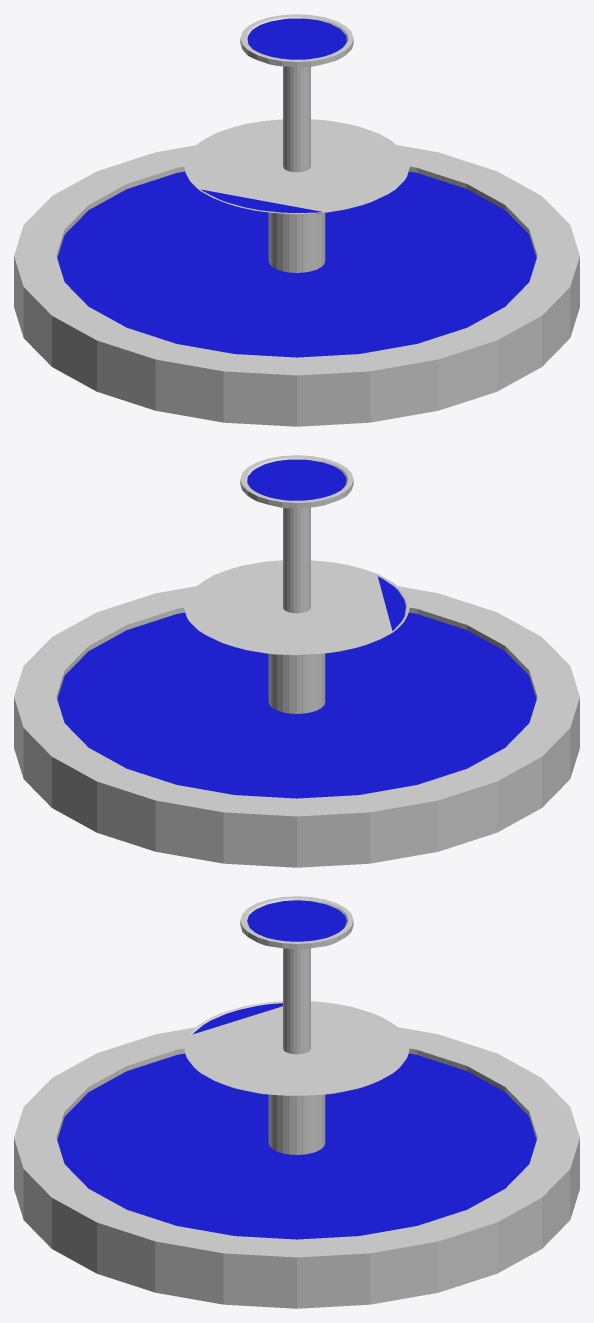
File: fountain.fbx
3 renders of one model, top to bottom at view 1: azimuth 30°, elevation 25°; view 2: azimuth 150°, elevation 25°; view 3: azimuth 270°, elevation 25°, orthographic.
Visible parts, largest first — view 1: Cylinder, WaterPlane, WaterPlane3, WaterPlane2; view 2: Cylinder, WaterPlane, WaterPlane3, WaterPlane2; view 3: Cylinder, WaterPlane, WaterPlane3, WaterPlane2.
Part boxes in pixels (box(x1,y1,x2,y2)): Cylinder: box(14, 14, 579, 426); WaterPlane: box(57, 171, 536, 357); WaterPlane3: box(247, 18, 346, 59); WaterPlane2: box(201, 189, 321, 212); Cylinder: box(14, 455, 579, 867); WaterPlane: box(57, 612, 536, 798); WaterPlane3: box(247, 459, 346, 500); WaterPlane2: box(377, 576, 405, 630); Cylinder: box(14, 896, 579, 1308); WaterPlane: box(57, 1053, 536, 1239); WaterPlane3: box(247, 900, 346, 941); WaterPlane2: box(193, 1003, 282, 1034).
Bounding box in the file's own units: 1000 × 525 × 1000.
